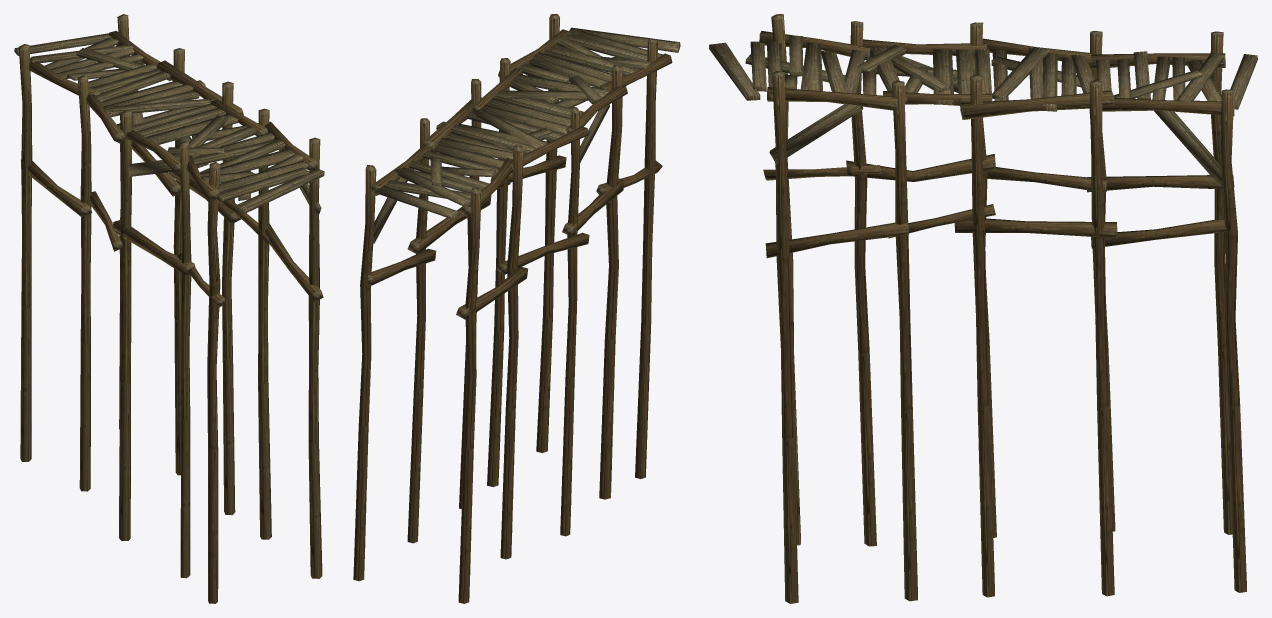
File: S_Build_West059.FBX
3 renders of one model, left to right at view 1: azimuth 30°, elevation 25°; view 2: azimuth 150°, elevation 25°; view 3: azimuth 270°, elevation 25°, orthographic. The views are drawn at different scales.
Visible parts, largest first — view 1: S_Build_West059; view 2: S_Build_West059; view 3: S_Build_West059.
Part boxes in pixels (x1,y1,x2,y2): S_Build_West059: (14,14,324,603); S_Build_West059: (353,14,680,603); S_Build_West059: (709,14,1257,603).
Bounding box in the file's own units: 424 × 1299 × 1372.
